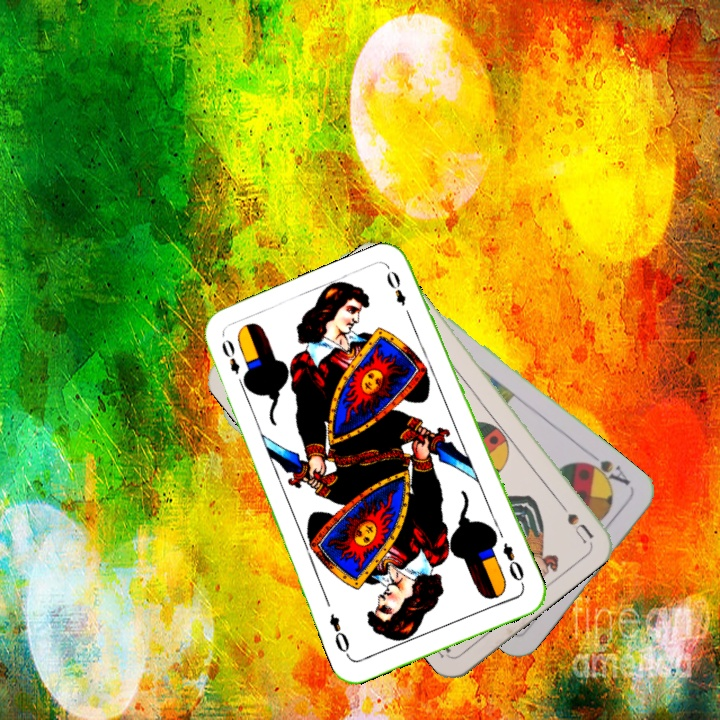EO: (217, 335, 249, 390), (498, 539, 527, 589)
SA: (579, 448, 633, 490)
SU: (550, 492, 596, 545)
